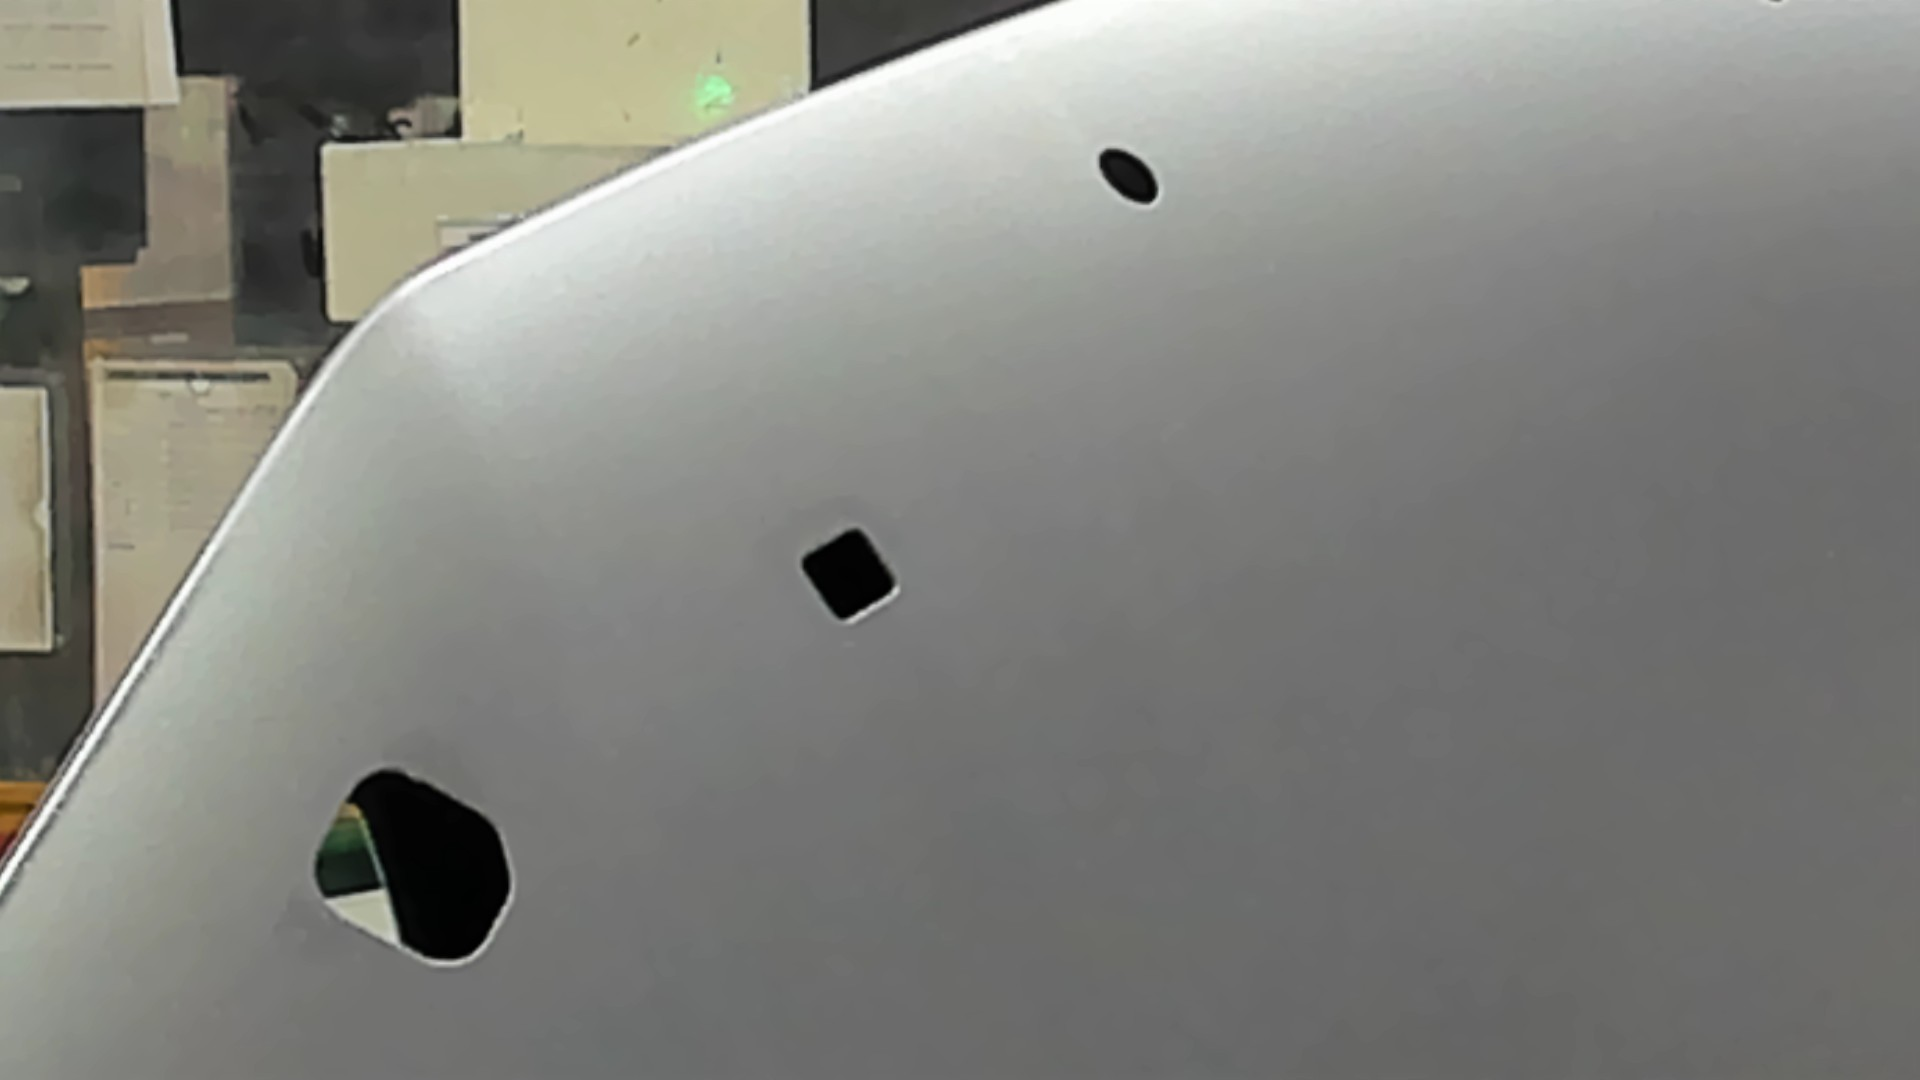chico: (1089, 135, 1179, 218)
grande: (295, 761, 524, 977)
mediano: (789, 517, 915, 632)
